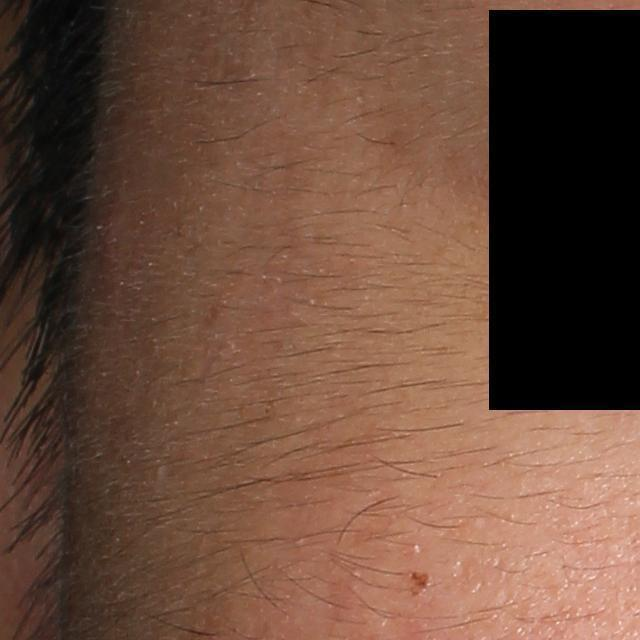nevus: (404, 568, 431, 599)
